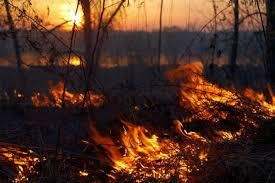fire: (0, 0, 92, 33), (29, 80, 101, 107), (0, 143, 44, 180)
